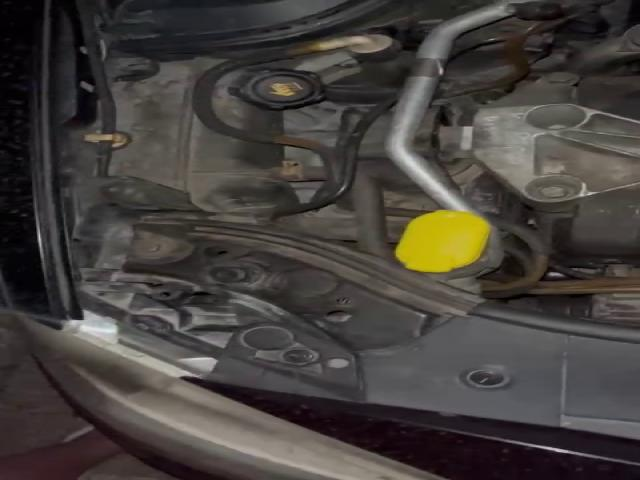antifreeze_tank: (110, 58, 300, 223), (212, 67, 325, 135)
